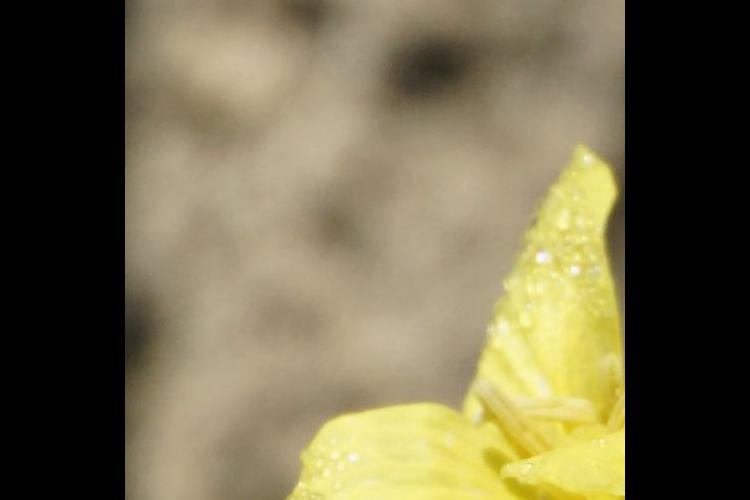yellow: (290, 142, 618, 500)
